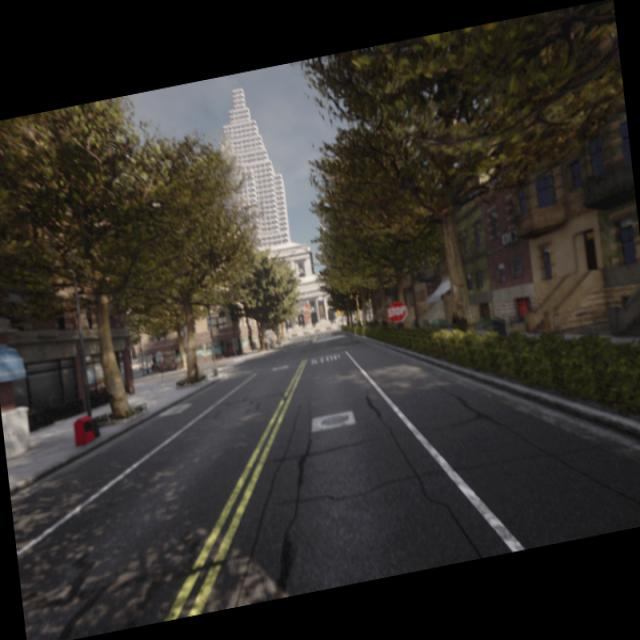stop sign: (384, 296, 410, 326)
